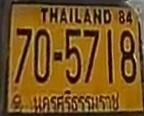0: (34, 28, 50, 81)
1: (106, 29, 114, 85)
5: (65, 28, 82, 83)
7: (14, 28, 32, 83), (83, 29, 98, 82)
8: (119, 30, 136, 83)
NST: (32, 89, 122, 112)
